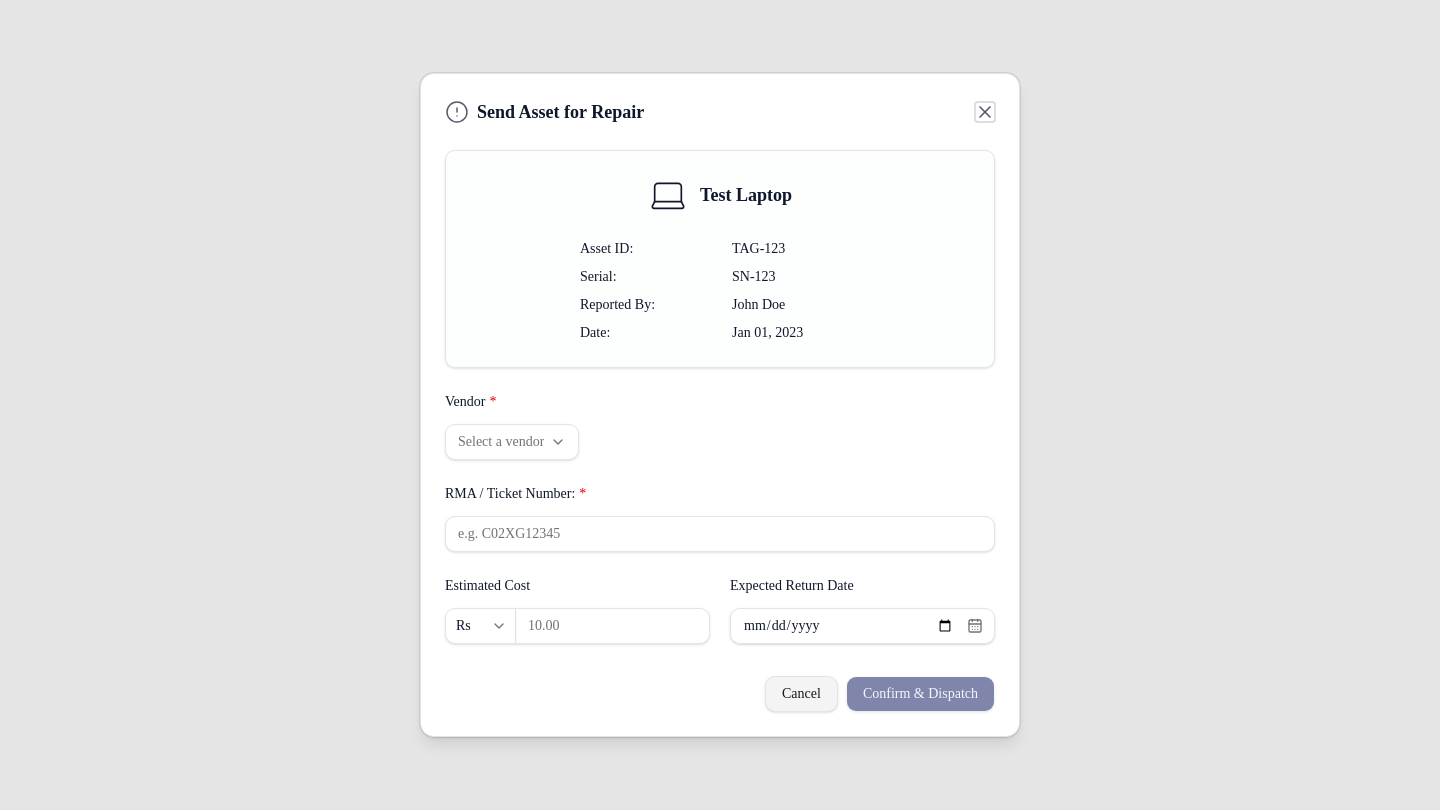
InitiateRepairDialog › shows error if RMA is too short on submit
The width and height of the screenshot is (1440, 810).
Click the dropdown labelled "Select a vendor" at x=512, y=442, box [445,424,579,460]
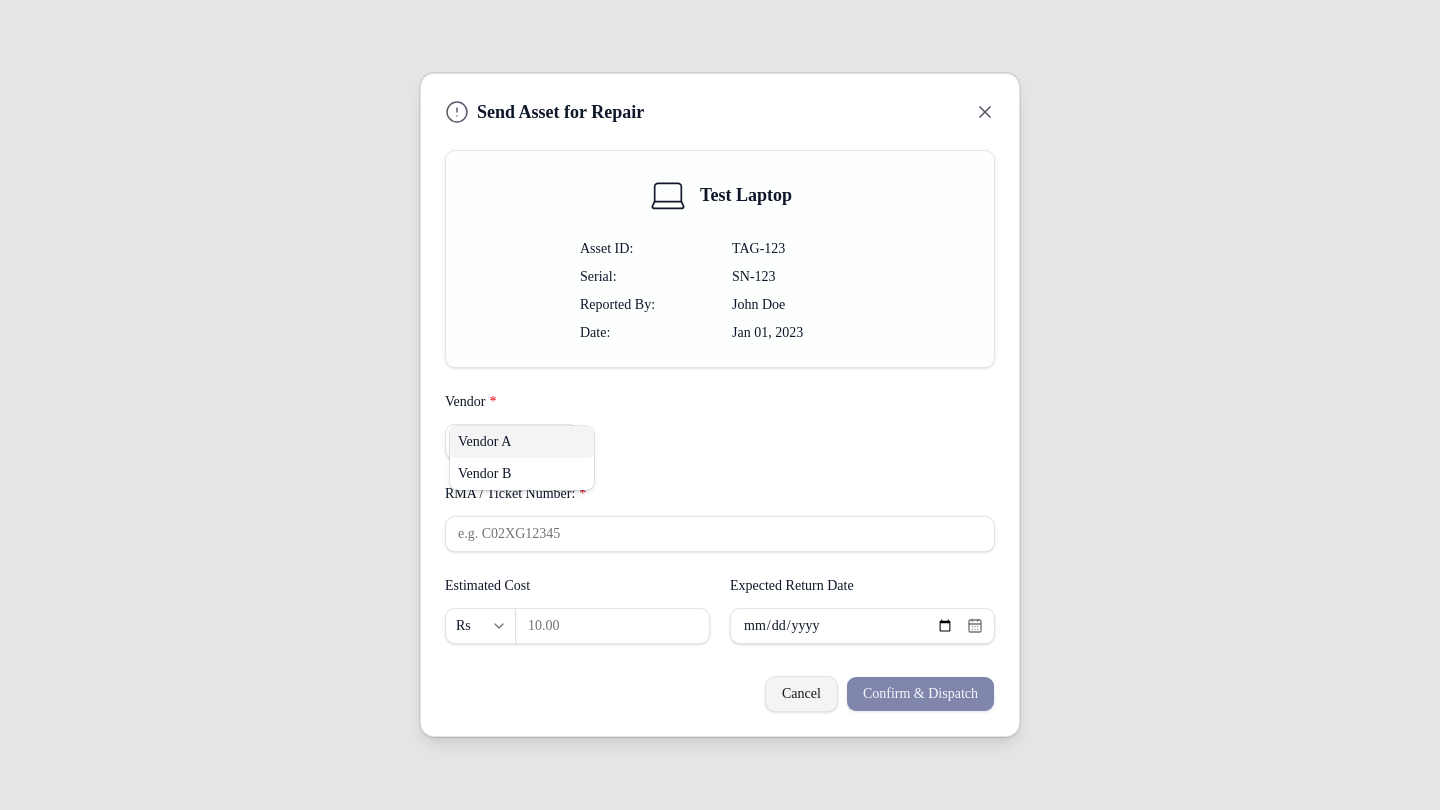
Click the option "Vendor A" at x=522, y=442, box [450,426,594,458]
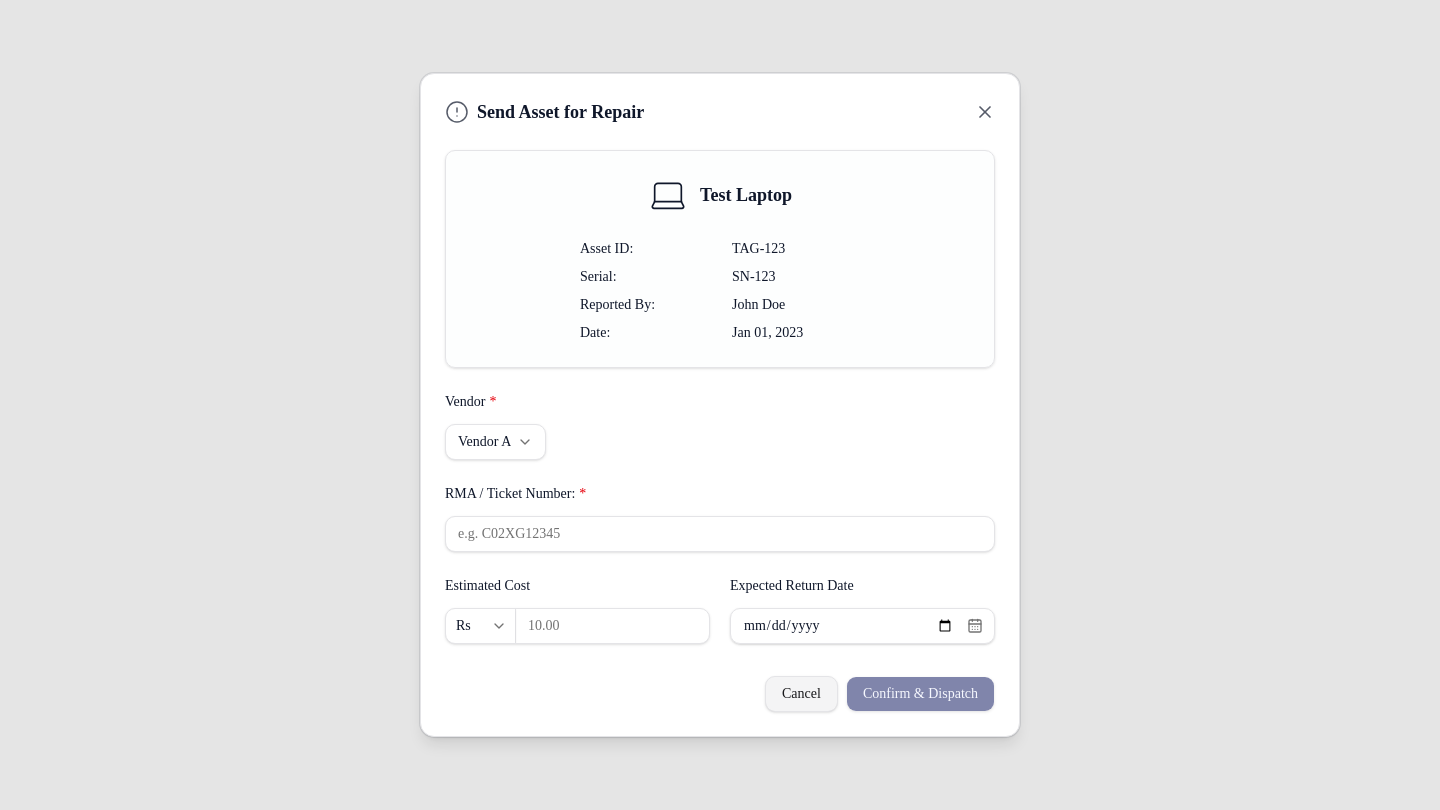
Type "RM" into the field labelled "RMA / Ticket Number: *" at x=720, y=534, box [445,516,995,552]
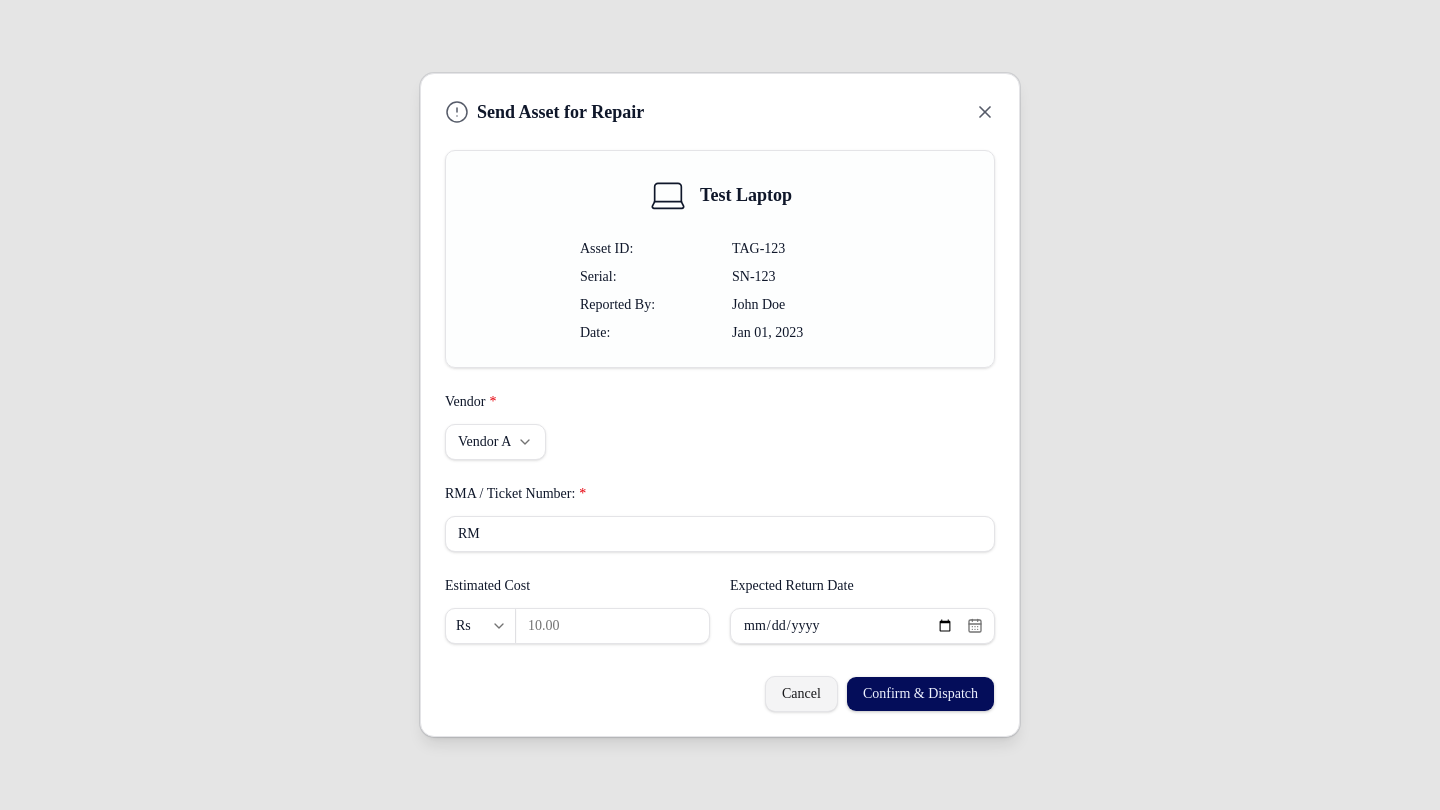
Now the button "Confirm & Dispatch" is enabled
Click the button "Confirm & Dispatch" at x=920, y=694, box [846,676,995,712]
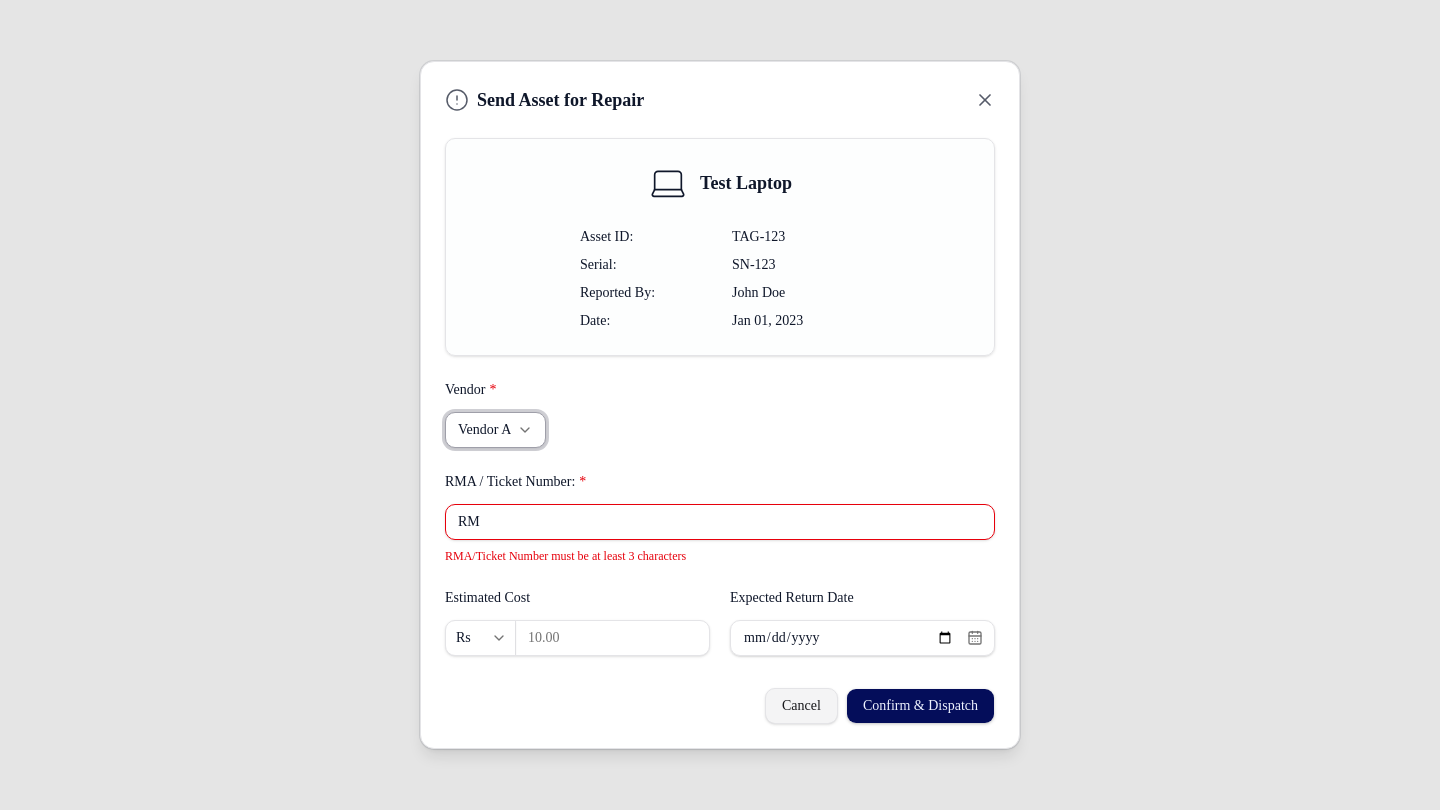
Now the text "RMA/Ticket Number must be at least 3 characters" is shown, box [445,549,686,563]
